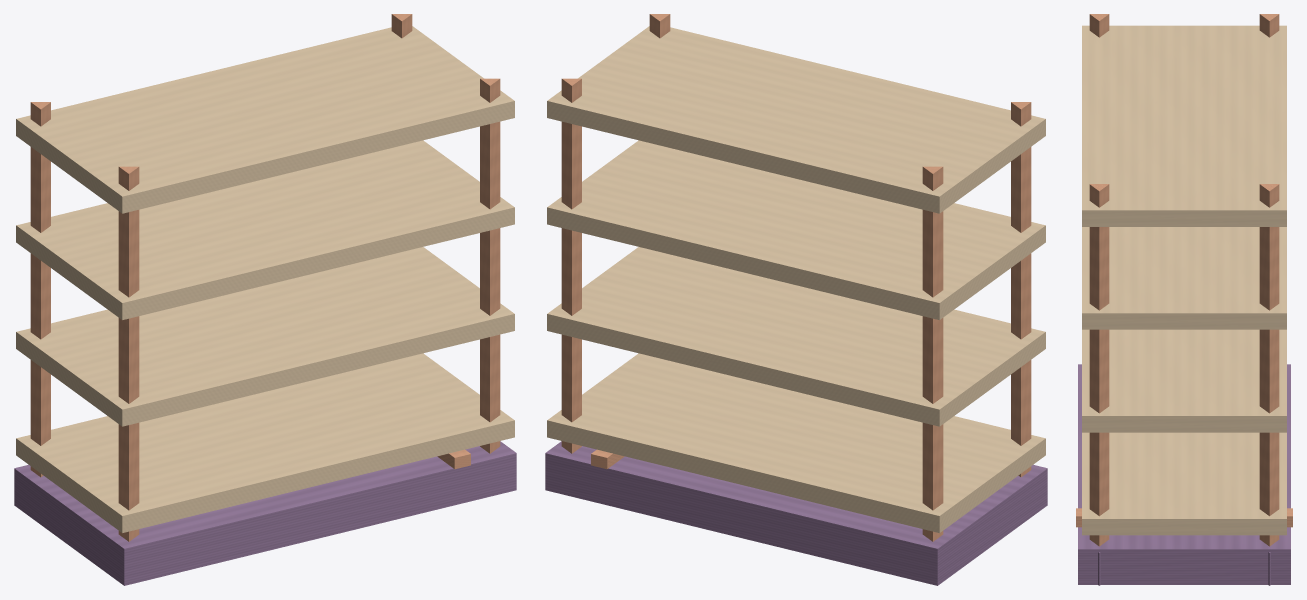
File: atlas100-s090-a06.lod2.glb
The picture shows the model from 3 angles, left to right: view 1: azimuth 30°, elevation 25°; view 2: azimuth 150°, elevation 25°; view 3: azimuth 270°, elevation 25°; orthographic projection. The views are drawn at different scales.
Visible parts, largest first — view 1: atlas100-s090-a06:part-014, atlas100-s090-a06:part-013, atlas100-s090-a06:part-012, atlas100-s090-a06:part-011, atlas100-s090-a06:part-000, atlas100-s090-a06:part-005, atlas100-s090-a06:part-009, atlas100-s090-a06:part-003; view 2: atlas100-s090-a06:part-014, atlas100-s090-a06:part-013, atlas100-s090-a06:part-012, atlas100-s090-a06:part-011, atlas100-s090-a06:part-000, atlas100-s090-a06:part-003, atlas100-s090-a06:part-007, atlas100-s090-a06:part-005; view 3: atlas100-s090-a06:part-014, atlas100-s090-a06:part-011, atlas100-s090-a06:part-012, atlas100-s090-a06:part-013, atlas100-s090-a06:part-000, atlas100-s090-a06:part-007, atlas100-s090-a06:part-009, atlas100-s090-a06:part-003, atlas100-s090-a06:part-005.
Boxes of the visible parts, box(x1,y1,x2,y2) form: atlas100-s090-a06:part-014: box(16, 26, 514, 213); atlas100-s090-a06:part-013: box(16, 140, 514, 319); atlas100-s090-a06:part-012: box(16, 247, 514, 426); atlas100-s090-a06:part-011: box(16, 353, 514, 532); atlas100-s090-a06:part-000: box(14, 441, 516, 585); atlas100-s090-a06:part-005: box(118, 166, 139, 541); atlas100-s090-a06:part-009: box(480, 78, 500, 453); atlas100-s090-a06:part-003: box(30, 102, 50, 477); atlas100-s090-a06:part-014: box(547, 26, 1045, 213); atlas100-s090-a06:part-013: box(547, 140, 1045, 319); atlas100-s090-a06:part-012: box(547, 247, 1045, 426); atlas100-s090-a06:part-011: box(547, 353, 1045, 532); atlas100-s090-a06:part-000: box(545, 441, 1047, 585); atlas100-s090-a06:part-003: box(922, 166, 943, 541); atlas100-s090-a06:part-007: box(561, 78, 581, 453); atlas100-s090-a06:part-005: box(1011, 102, 1031, 477); atlas100-s090-a06:part-014: box(1082, 25, 1286, 226); atlas100-s090-a06:part-011: box(1082, 432, 1286, 535); atlas100-s090-a06:part-012: box(1082, 329, 1286, 432); atlas100-s090-a06:part-013: box(1082, 227, 1286, 329); atlas100-s090-a06:part-000: box(1078, 364, 1290, 584); atlas100-s090-a06:part-007: box(1259, 184, 1279, 546); atlas100-s090-a06:part-009: box(1089, 184, 1109, 546); atlas100-s090-a06:part-003: box(1259, 14, 1279, 37); atlas100-s090-a06:part-005: box(1089, 14, 1109, 37).
Size of the model in its own units: 2.89 by 2.84 by 1.43.
Materials: 3 (3 with a texture image).
